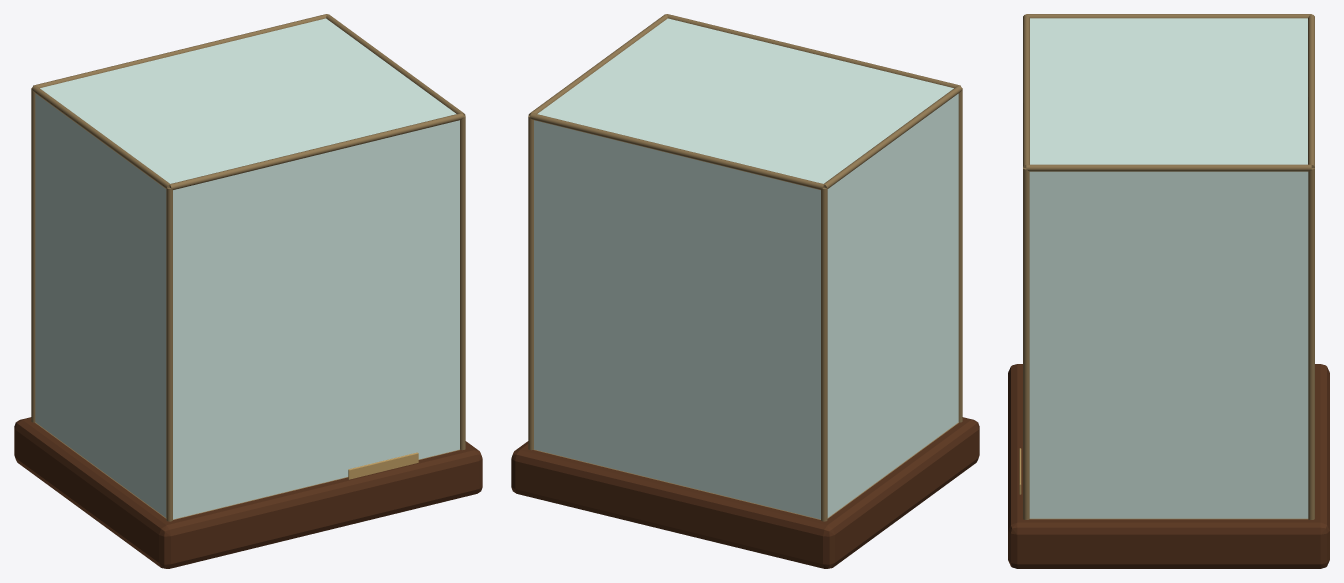
The model's file is desk-terrarium.glb.
3 renders of one model, left to right at view 1: azimuth 30°, elevation 25°; view 2: azimuth 150°, elevation 25°; view 3: azimuth 270°, elevation 25°, orthographic. The views are drawn at different scales.
Visible parts, largest first — view 1: part::desk-terrarium/front-rear-glass-pane-002, part::desk-terrarium/side-glass-pane-001, part::desk-terrarium/glass-lid-001, part::desk-terrarium/walnut-display-plinth-001, part::desk-terrarium/brass-corner-mullion-002, part::desk-terrarium/horizontal-frame-004, part::desk-terrarium/brass-corner-mullion-004, part::desk-terrarium/brass-corner-mullion-001, part::desk-terrarium/horizontal-frame-003, part::desk-terrarium/side-frame-003, part::desk-terrarium/side-frame-004, part::desk-terrarium/botanical-specimen-label-001; view 2: part::desk-terrarium/front-rear-glass-pane-001, part::desk-terrarium/side-glass-pane-001, part::desk-terrarium/glass-lid-001, part::desk-terrarium/walnut-display-plinth-001, part::desk-terrarium/brass-corner-mullion-001, part::desk-terrarium/horizontal-frame-003, part::desk-terrarium/brass-corner-mullion-003, part::desk-terrarium/brass-corner-mullion-002, part::desk-terrarium/horizontal-frame-004, part::desk-terrarium/side-frame-003, part::desk-terrarium/side-frame-004; view 3: part::desk-terrarium/side-glass-pane-002, part::desk-terrarium/glass-lid-001, part::desk-terrarium/walnut-display-plinth-001, part::desk-terrarium/brass-corner-mullion-003, part::desk-terrarium/brass-corner-mullion-004, part::desk-terrarium/side-frame-004, part::desk-terrarium/side-frame-003, part::desk-terrarium/horizontal-frame-003, part::desk-terrarium/horizontal-frame-004, part::desk-terrarium/side-frame-002.
Boxes of the visible parts, bbox=[...] form: part::desk-terrarium/front-rear-glass-pane-002: bbox=[173, 120, 459, 519]; part::desk-terrarium/side-glass-pane-001: bbox=[35, 93, 166, 517]; part::desk-terrarium/glass-lid-001: bbox=[40, 18, 456, 183]; part::desk-terrarium/walnut-display-plinth-001: bbox=[14, 417, 482, 568]; part::desk-terrarium/brass-corner-mullion-002: bbox=[166, 187, 172, 521]; part::desk-terrarium/horizontal-frame-004: bbox=[169, 113, 463, 189]; part::desk-terrarium/brass-corner-mullion-004: bbox=[460, 115, 465, 450]; part::desk-terrarium/brass-corner-mullion-001: bbox=[31, 88, 35, 422]; part::desk-terrarium/horizontal-frame-003: bbox=[33, 14, 326, 87]; part::desk-terrarium/side-frame-003: bbox=[31, 85, 169, 188]; part::desk-terrarium/side-frame-004: bbox=[326, 14, 465, 115]; part::desk-terrarium/botanical-specimen-label-001: bbox=[348, 452, 418, 479]; part::desk-terrarium/front-rear-glass-pane-001: bbox=[534, 120, 820, 519]; part::desk-terrarium/side-glass-pane-001: bbox=[827, 93, 958, 517]; part::desk-terrarium/glass-lid-001: bbox=[537, 18, 953, 183]; part::desk-terrarium/walnut-display-plinth-001: bbox=[511, 417, 979, 568]; part::desk-terrarium/brass-corner-mullion-001: bbox=[821, 187, 827, 521]; part::desk-terrarium/horizontal-frame-003: bbox=[530, 113, 824, 189]; part::desk-terrarium/brass-corner-mullion-003: bbox=[528, 115, 533, 450]; part::desk-terrarium/brass-corner-mullion-002: bbox=[958, 88, 962, 422]; part::desk-terrarium/horizontal-frame-004: bbox=[667, 14, 960, 87]; part::desk-terrarium/side-frame-003: bbox=[824, 85, 962, 188]; part::desk-terrarium/side-frame-004: bbox=[528, 14, 667, 115]; part::desk-terrarium/side-glass-pane-002: bbox=[1029, 171, 1308, 518]; part::desk-terrarium/glass-lid-001: bbox=[1030, 18, 1307, 164]; part::desk-terrarium/walnut-display-plinth-001: bbox=[1008, 364, 1329, 568]; part::desk-terrarium/brass-corner-mullion-003: bbox=[1308, 168, 1314, 519]; part::desk-terrarium/brass-corner-mullion-004: bbox=[1023, 168, 1029, 519]; part::desk-terrarium/side-frame-004: bbox=[1026, 164, 1311, 171]; part::desk-terrarium/side-frame-003: bbox=[1026, 14, 1311, 18]; part::desk-terrarium/horizontal-frame-003: bbox=[1308, 14, 1314, 167]; part::desk-terrarium/horizontal-frame-004: bbox=[1023, 14, 1029, 167]; part::desk-terrarium/side-frame-002: bbox=[1030, 518, 1307, 519].
Bounding box in the file's own units: 0.386 × 0.4335 × 0.316.
